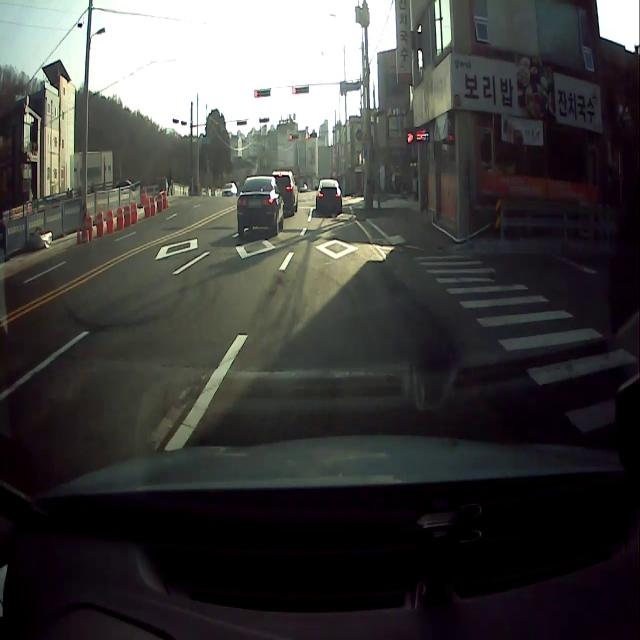Red Light: (288, 132, 293, 141), (292, 84, 296, 95), (254, 89, 258, 99), (308, 133, 310, 139)
